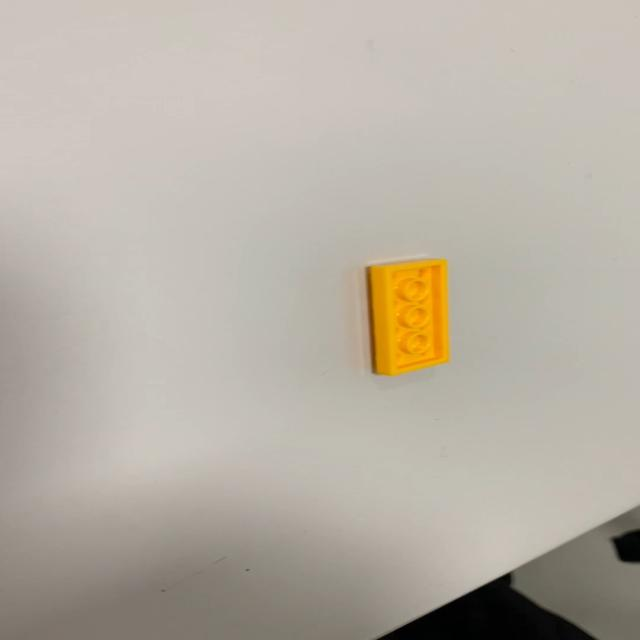C4x2x0: (364, 258, 450, 376)
